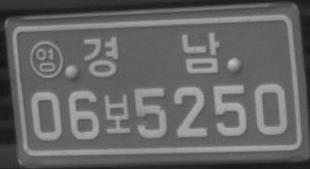0: (253, 83, 288, 136), (30, 90, 63, 142)
2: (173, 84, 208, 138)
5: (211, 84, 248, 136), (133, 86, 167, 139)
6: (67, 89, 100, 141)
경남_D: (82, 31, 220, 78)
보: (103, 93, 132, 133)
영: (29, 39, 63, 79)
